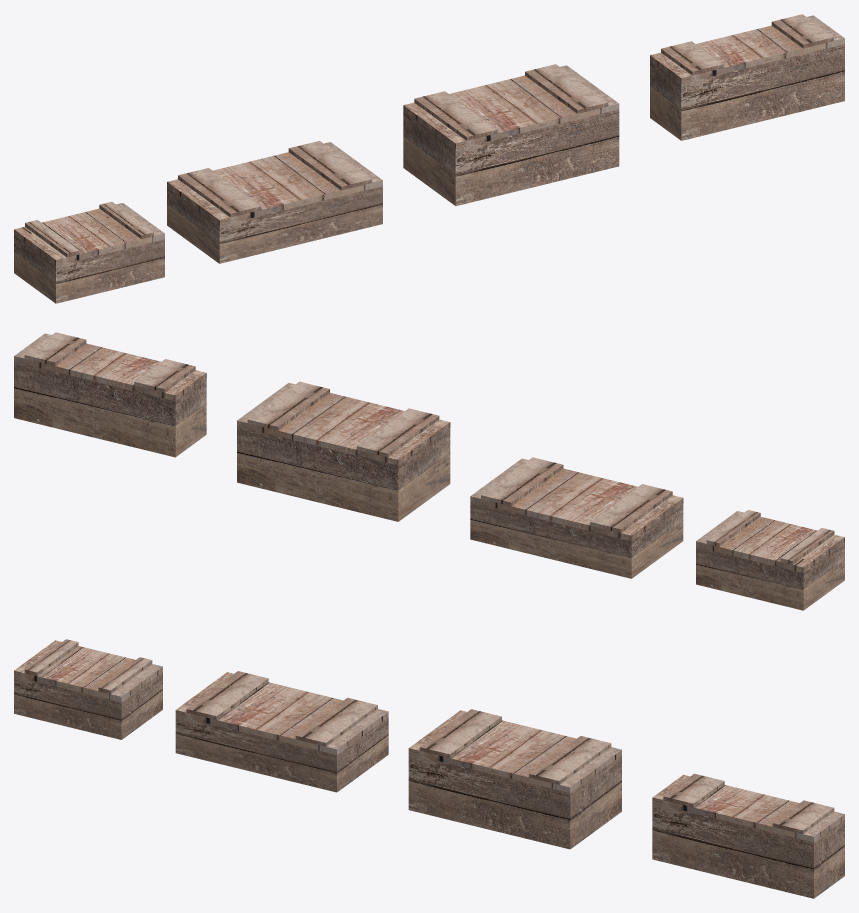
The model's file is crates 1.fbx.
3 renders of one model, top to bottom at view 1: azimuth 30°, elevation 25°; view 2: azimuth 150°, elevation 25°; view 3: azimuth 330°, elevation 25°, orthographic.
Parts seen in each view (by area): view 1: Cube.013, Cube.017, Cube.014, Cube.010, Cube.004, Cube.018, Cube.005, Cube.006; view 2: Cube.013, Cube.017, Cube.014, Cube.010, Cube.004, Cube.018, Cube.005, Cube.006; view 3: Cube.013, Cube.017, Cube.014, Cube.010, Cube.004, Cube.018, Cube.005, Cube.006.
Boxes of the visible parts, x1,y1,x2,y2 form: Cube.013: (403, 109, 619, 205); Cube.017: (650, 44, 844, 140); Cube.014: (403, 64, 619, 148); Cube.010: (167, 141, 382, 225); Cube.004: (167, 186, 382, 263); Cube.018: (650, 14, 844, 83); Cube.005: (14, 235, 164, 303); Cube.006: (14, 201, 164, 265); Cube.013: (237, 426, 450, 521); Cube.017: (14, 362, 206, 457); Cube.014: (237, 381, 450, 465); Cube.010: (470, 457, 683, 541); Cube.004: (470, 502, 683, 578); Cube.018: (14, 332, 206, 400); Cube.005: (696, 543, 844, 610); Cube.006: (696, 510, 844, 572); Cube.013: (408, 754, 621, 849); Cube.017: (652, 803, 844, 898); Cube.014: (408, 709, 621, 792); Cube.010: (175, 671, 388, 754); Cube.004: (175, 716, 388, 792); Cube.018: (652, 773, 844, 842); Cube.005: (14, 672, 162, 739); Cube.006: (14, 639, 162, 702).
Bounding box in the file's own units: 440 × 35 × 50.
Materials: 1 (1 with a texture image).
